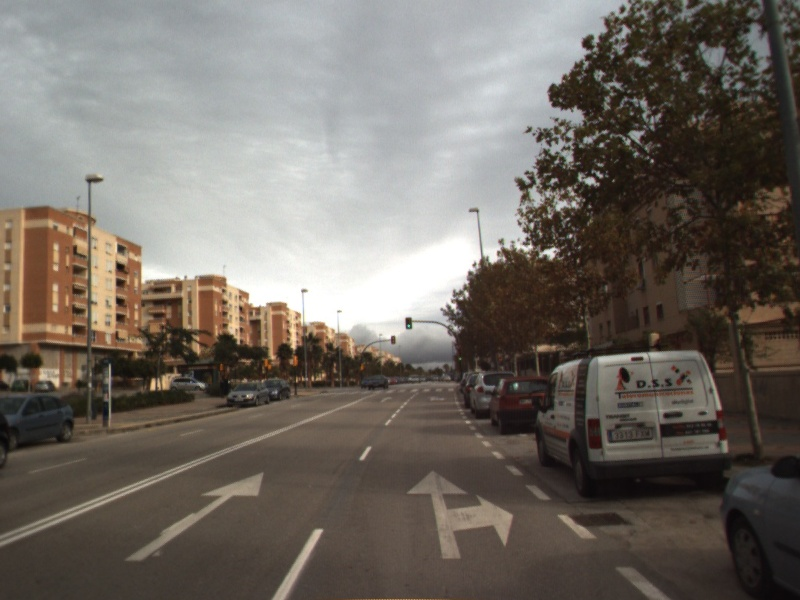STRAIGHT: (122, 470, 265, 563)
STRAIGHT_RIGHT: (404, 468, 516, 561)
